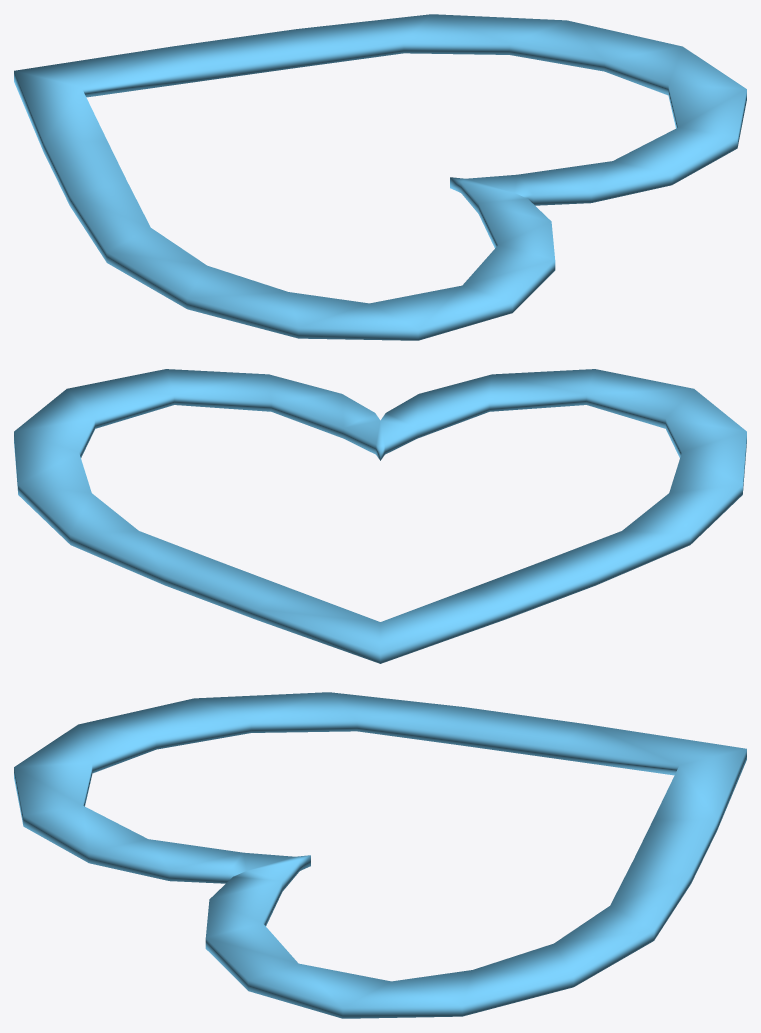
Rendered from heart_3.fbx.
The picture shows the model from 3 angles, top to bottom: view 1: azimuth 30°, elevation 25°; view 2: azimuth 150°, elevation 25°; view 3: azimuth 270°, elevation 25°; orthographic projection. The views are drawn at different scales.
Parts seen in each view (by area): view 1: heart_3; view 2: heart_3; view 3: heart_3.
Part boxes in pixels (<box>): heart_3: <box>14,14,746,340</box>; heart_3: <box>14,369,746,663</box>; heart_3: <box>14,692,746,1018</box>.
Size of the model in its own units: 61.85 by 1 by 60.69.
